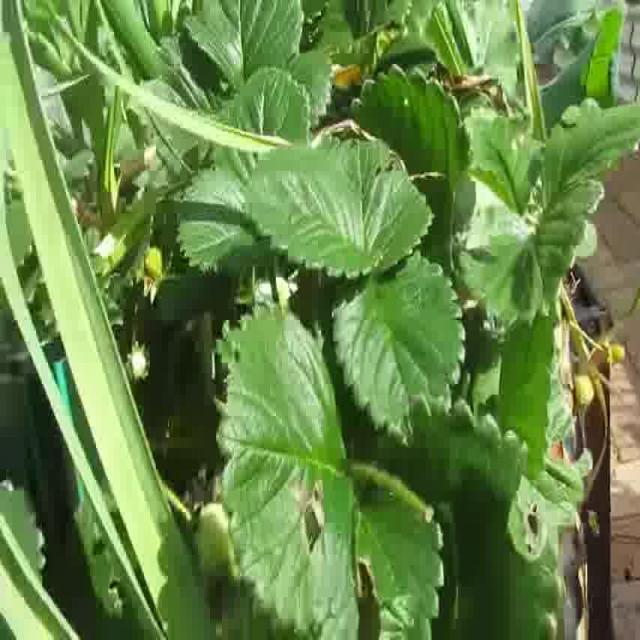Fruta sana: (197, 499, 240, 582), (550, 438, 587, 520), (572, 372, 596, 410), (142, 243, 164, 279), (609, 342, 626, 365)
Moho gris: (126, 348, 150, 381)
